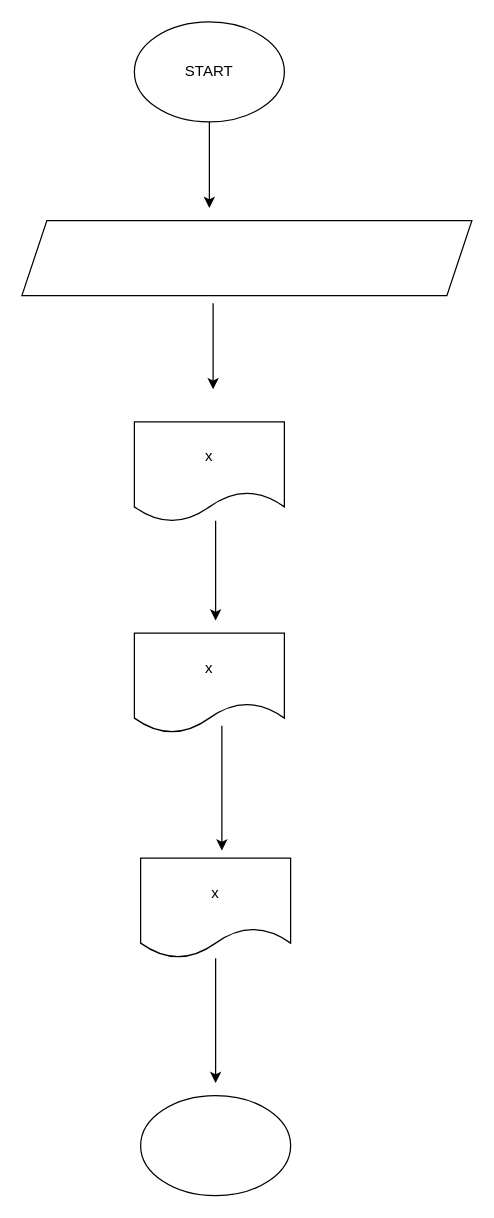
Some shapes in this 494 by 1218 pixel diagram are drawn without their labels. The centre of each missing label's shape, as x and y in pixels:
END: (215,1145)
x = int ("How many beers you order?"): (246,257)
